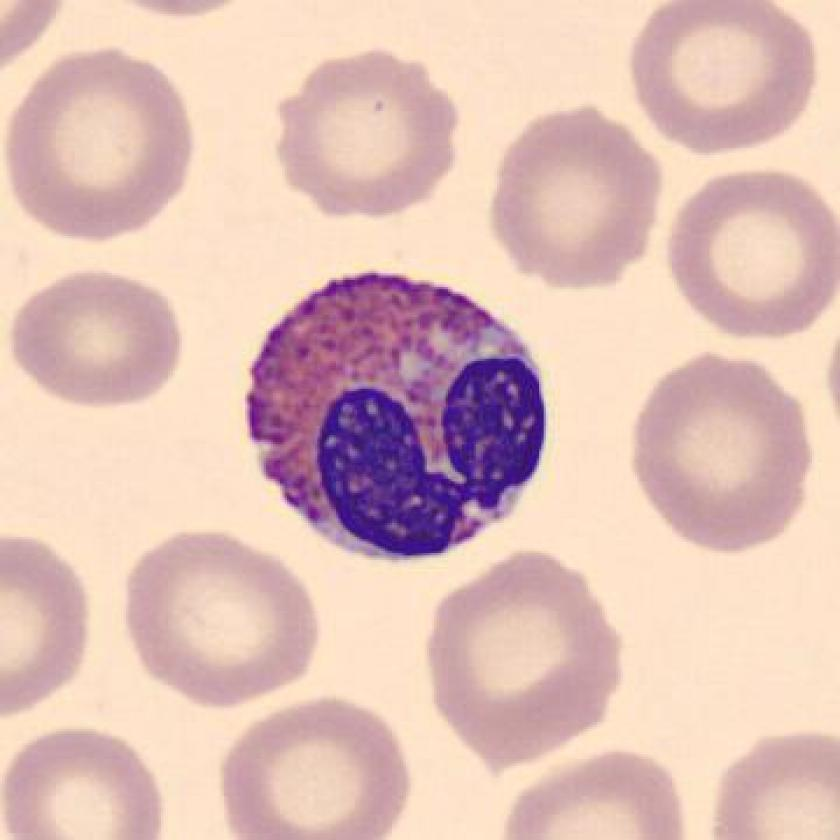eosinophil: (237, 263, 556, 577)
